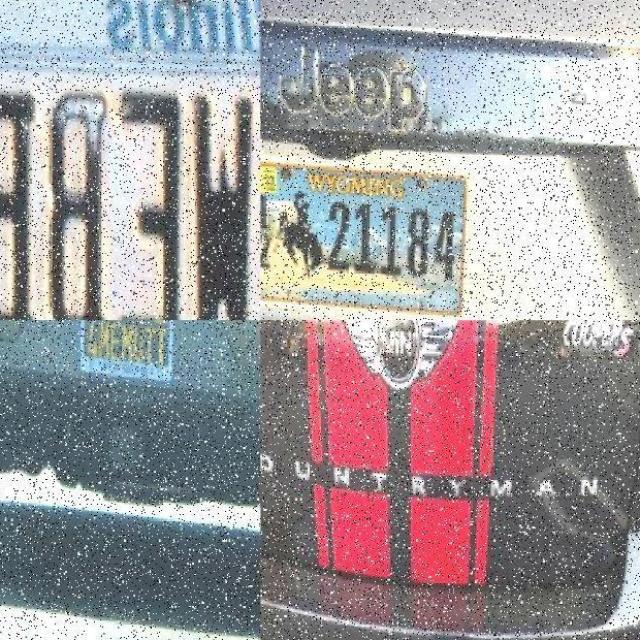license-plate: (251, 135, 520, 312)
